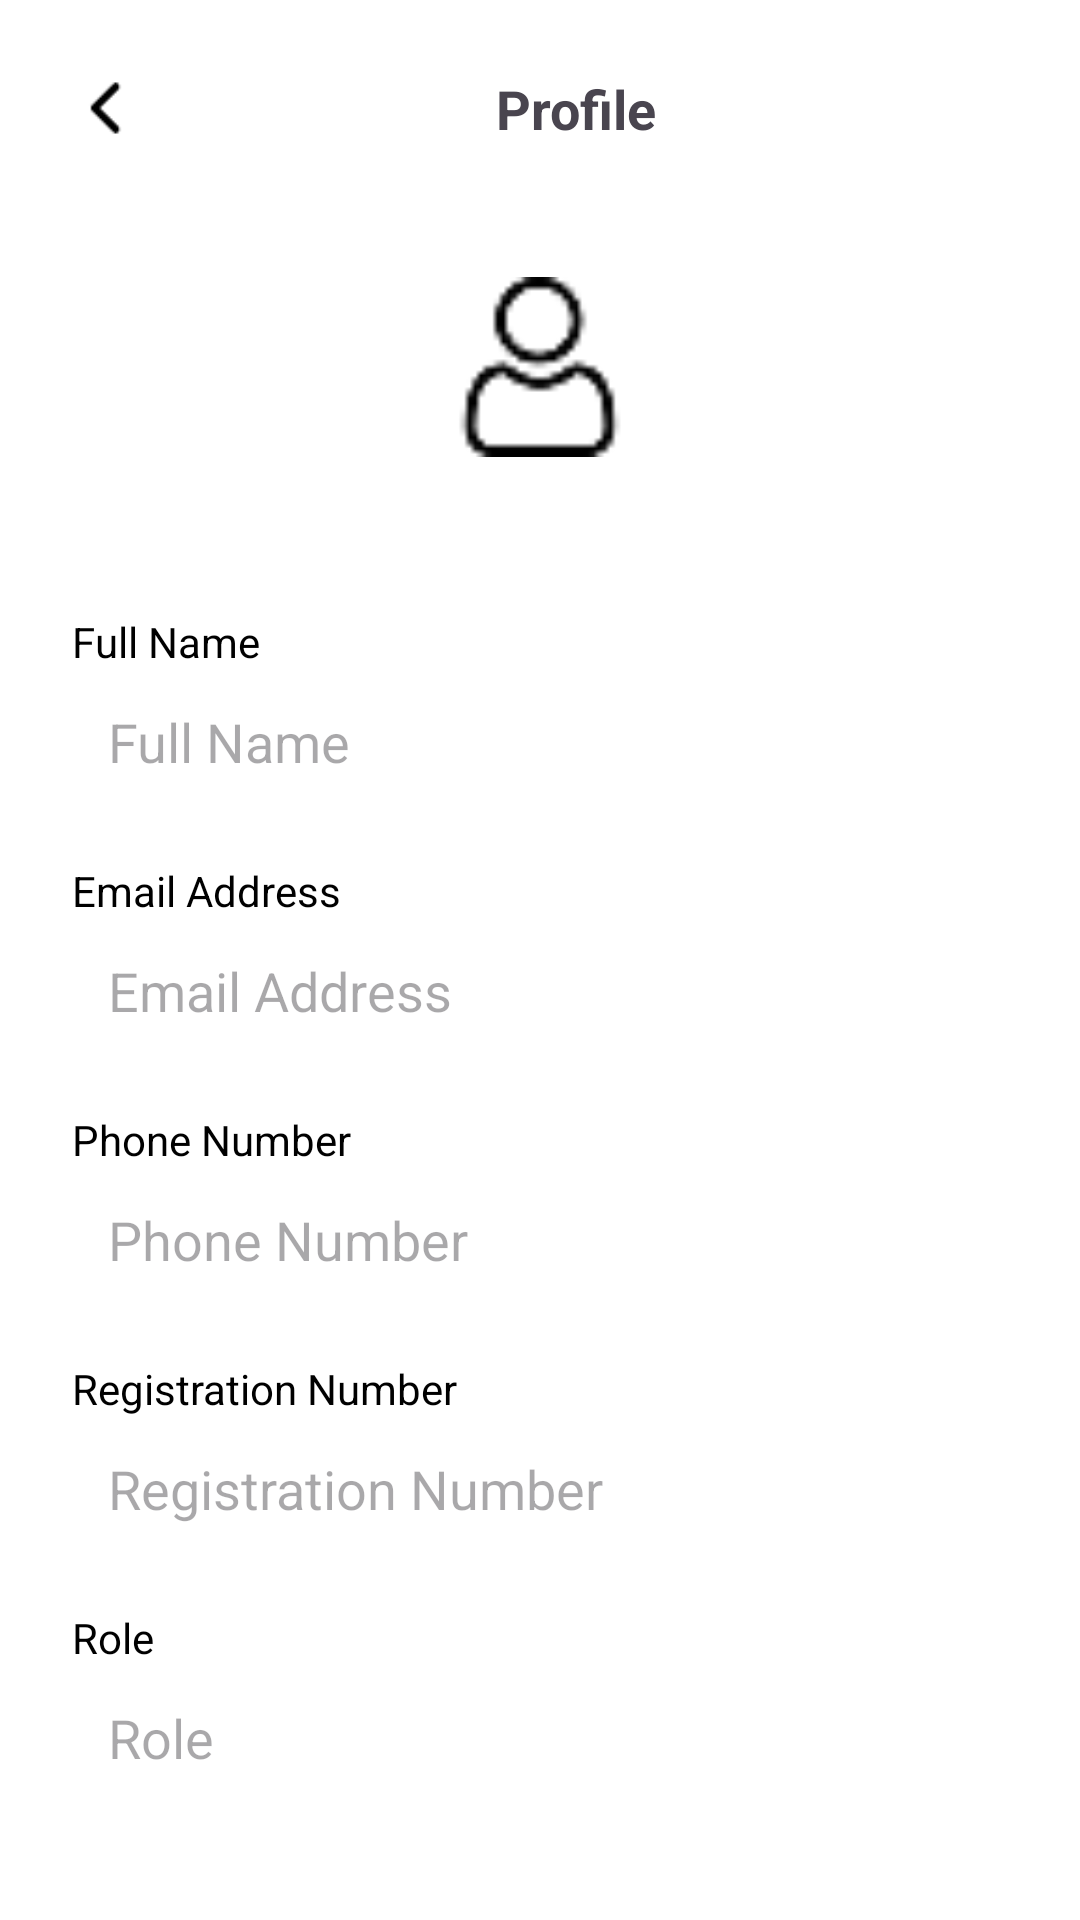

Point at icon controls on the screen. Image size 1080px×1920px, points as point (x, y).
Back: point (105, 108)
